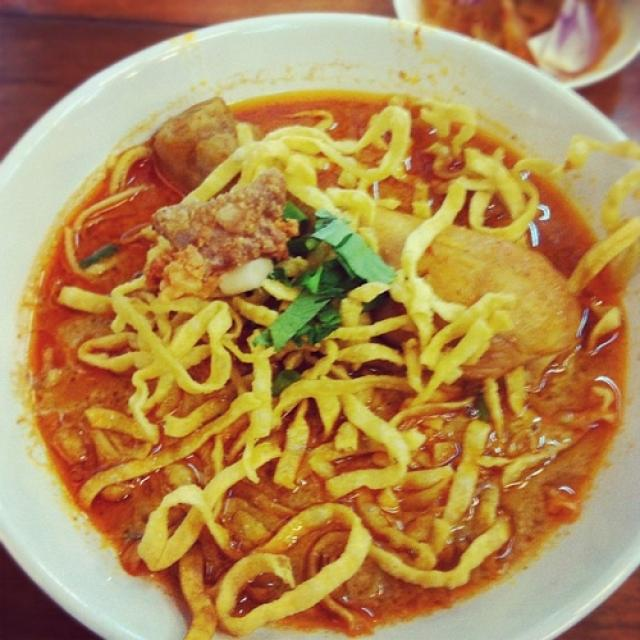面条主食: (22, 45, 617, 613)
